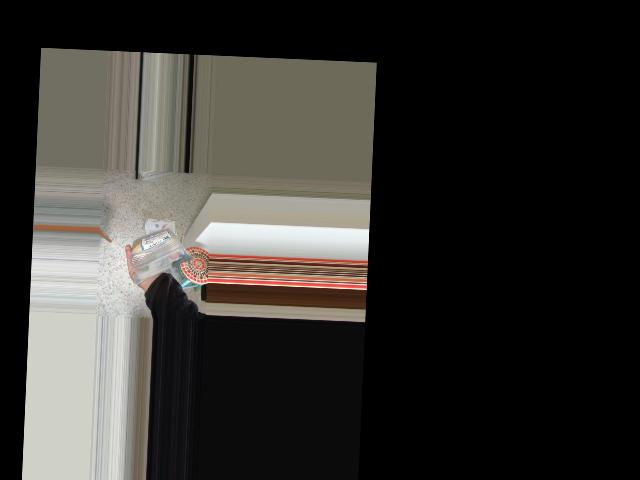cheese: (142, 211, 172, 276)
